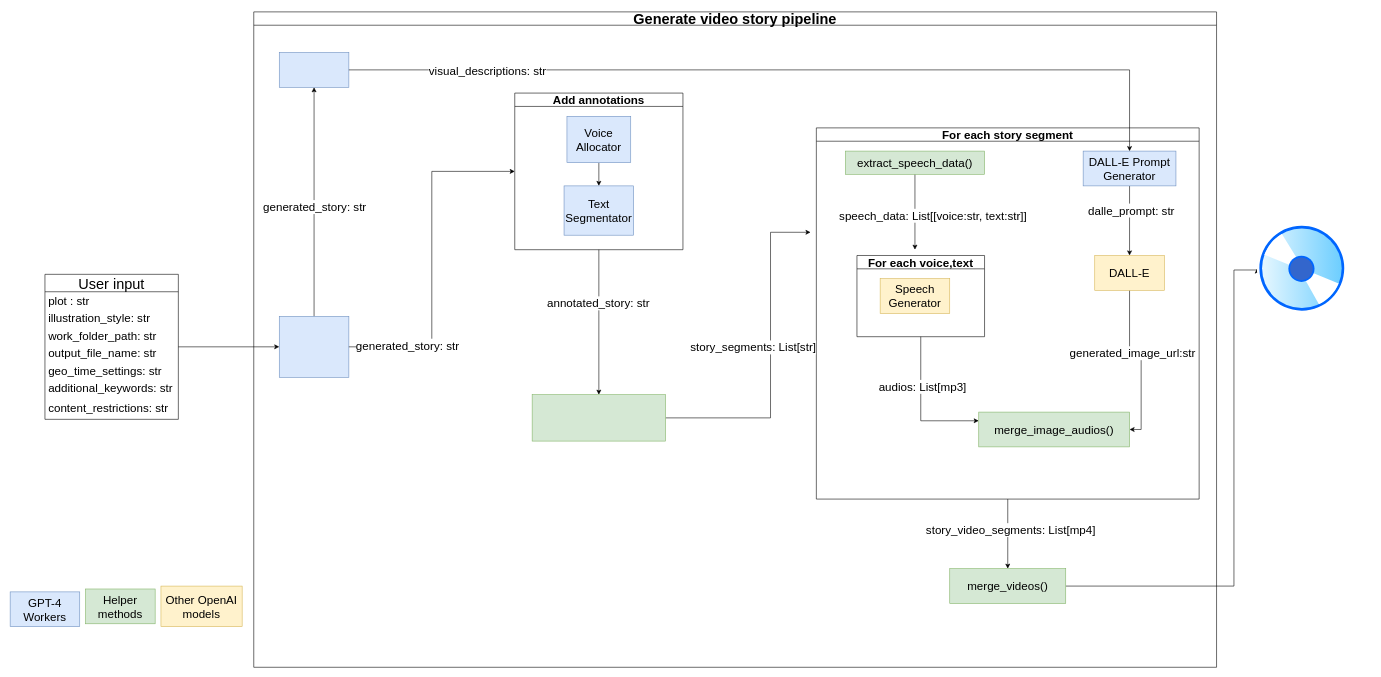
Image size: 1381x677. Some labels were removed from this diagram. The shapes that lost their labels are listed below. From the top down, each one's centre as x and y in pixels, then its label:
the point at 314,69: Visual descriptor
the point at 1302,268: Generated video (mp4 file)
the point at 314,346: Story Generator
the point at 599,417: extract_segments()
